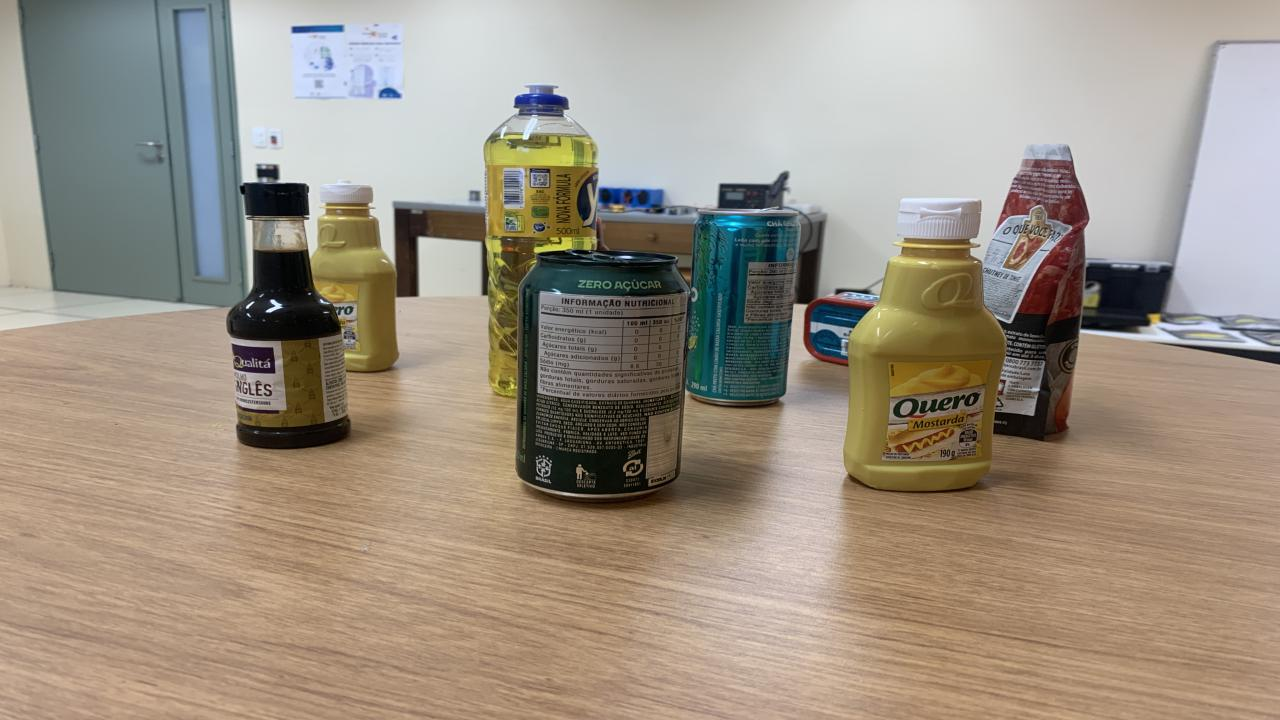Detergent-Cleanup_Items: (485, 84, 598, 396)
English_Sauce-Pantry_Items: (228, 182, 350, 448)
Guarana_Can-Drinks: (515, 249, 690, 501)
Mustard-Pantry_Items: (845, 199, 1005, 491), (312, 180, 398, 371)
Tea-Drinks: (685, 212, 800, 405)
Tomato_Sauce-Pantry_Items: (982, 144, 1088, 439)
Tuna_Can-Pantry_Items: (805, 291, 878, 364)
